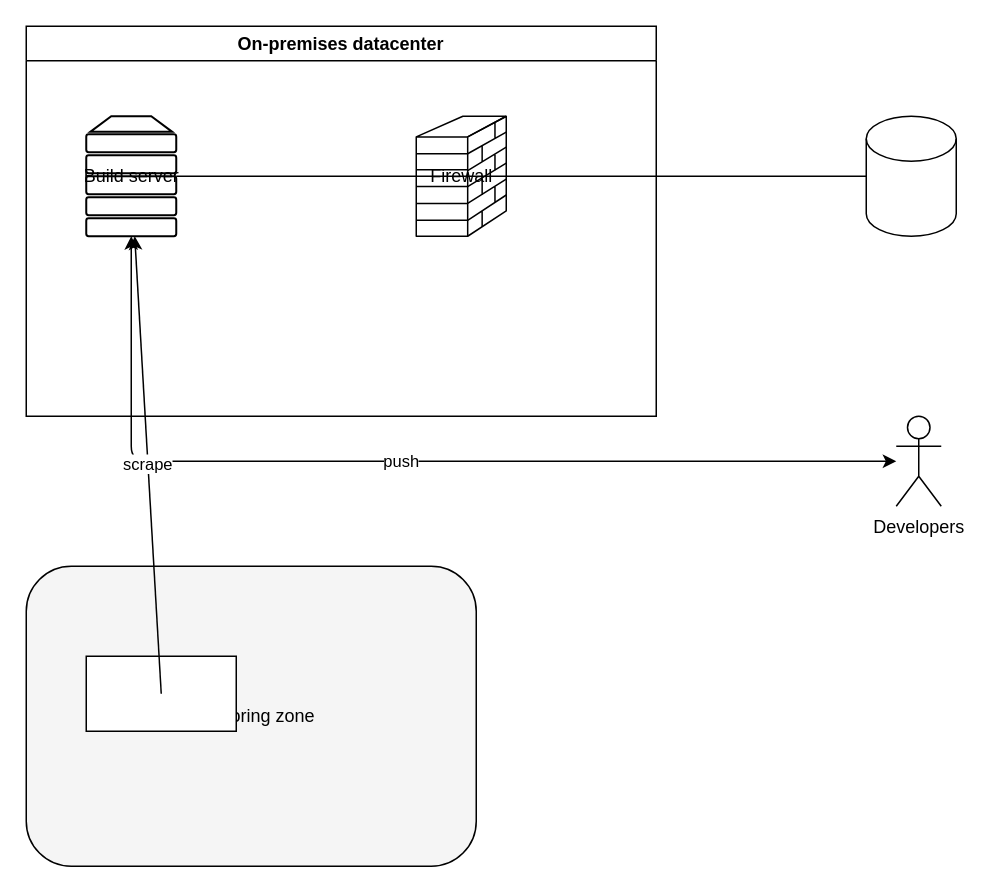
Image size: 990x893. Some labels were removed from this diagram. Here are the shapes that lost their labels. From the top down, the centre of each, then its label:
At point (910, 175): "Artifacts".
At point (160, 693): "Grafana".
